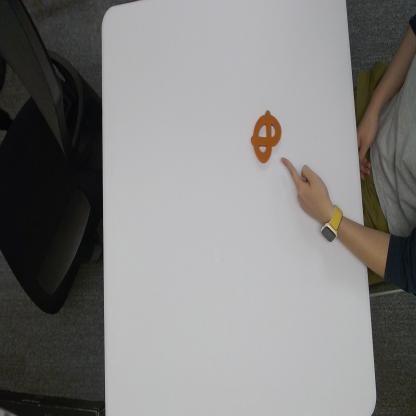Hand: (280, 156, 329, 216)
Pretzel: (250, 107, 282, 164)
